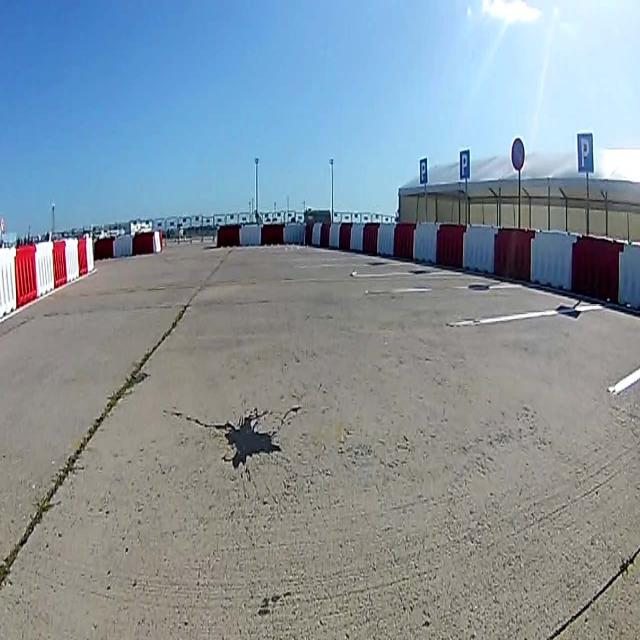park: (576, 132, 594, 174), (460, 150, 470, 180), (418, 156, 428, 184)
parkyasak: (512, 138, 524, 170)
